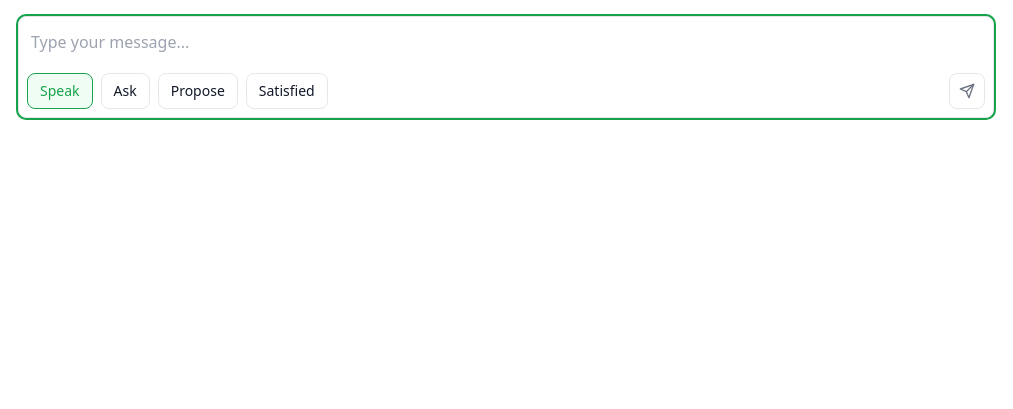
UserInputSection speaking turn › opens the route editor without a separate submit button when Propose is chosen
Click the button "Propose".
click(198, 91)  # box x1=158 y1=73 x2=238 y2=109
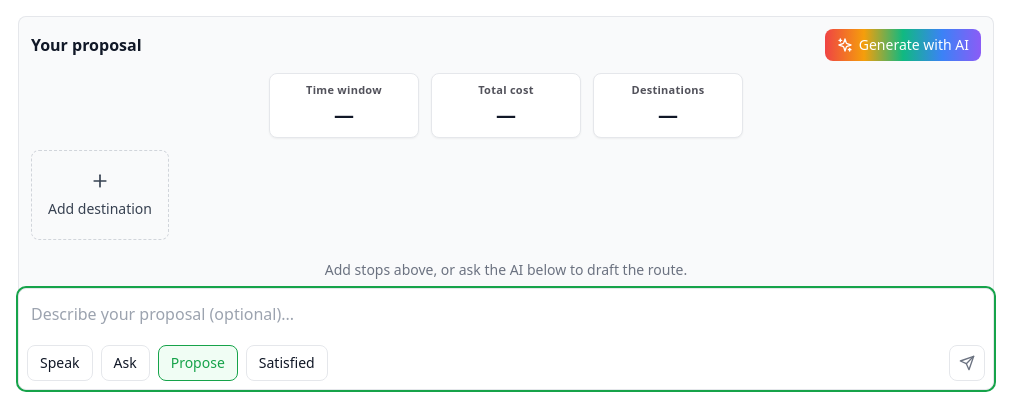
Expected: the heading "Your proposal" is shown, x1=31 y1=33 x2=142 y2=57
Expected: the button "Generate with AI" is shown, x1=825 y1=29 x2=981 y2=61
Expected: the text "Add destination" is shown, x1=48 y1=198 x2=152 y2=218
